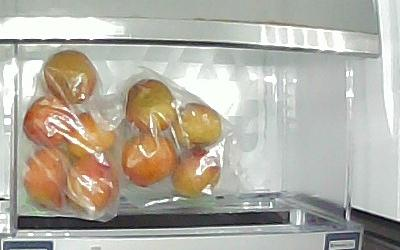prune_vinyl: (21, 145, 77, 210), (65, 158, 121, 216), (44, 49, 98, 104), (122, 135, 176, 187), (126, 80, 176, 135), (22, 96, 75, 147), (173, 103, 224, 150), (171, 149, 221, 195), (68, 112, 116, 156)
